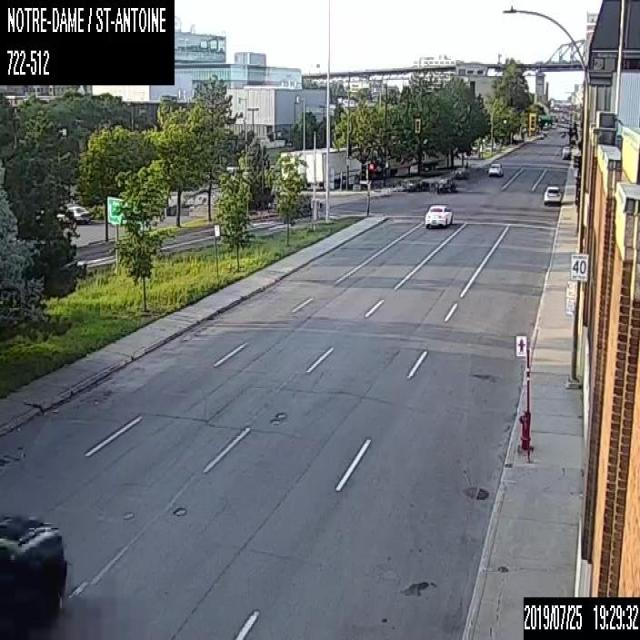vehicle: (0, 512, 67, 638), (423, 201, 452, 227), (543, 183, 561, 204), (434, 175, 456, 192), (486, 160, 503, 176), (406, 174, 422, 190)
